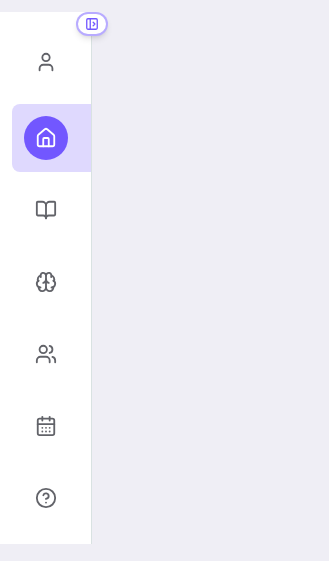
Test: AppSidebar — collapse toggle › flips the sidebar store and its own expanded state
The image size is (329, 561).
Click the button named "expand sidebar" at (92, 24), box [76,12,108,36]
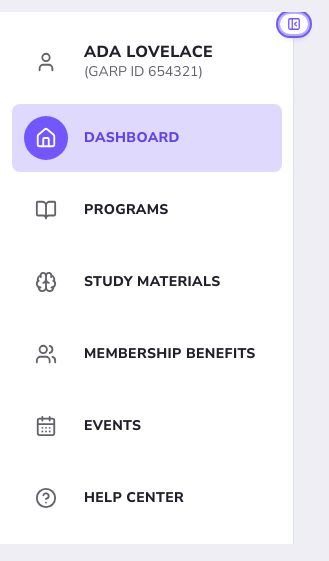
Now the button named "collapse sidebar" is expanded, box [278,12,310,36]
